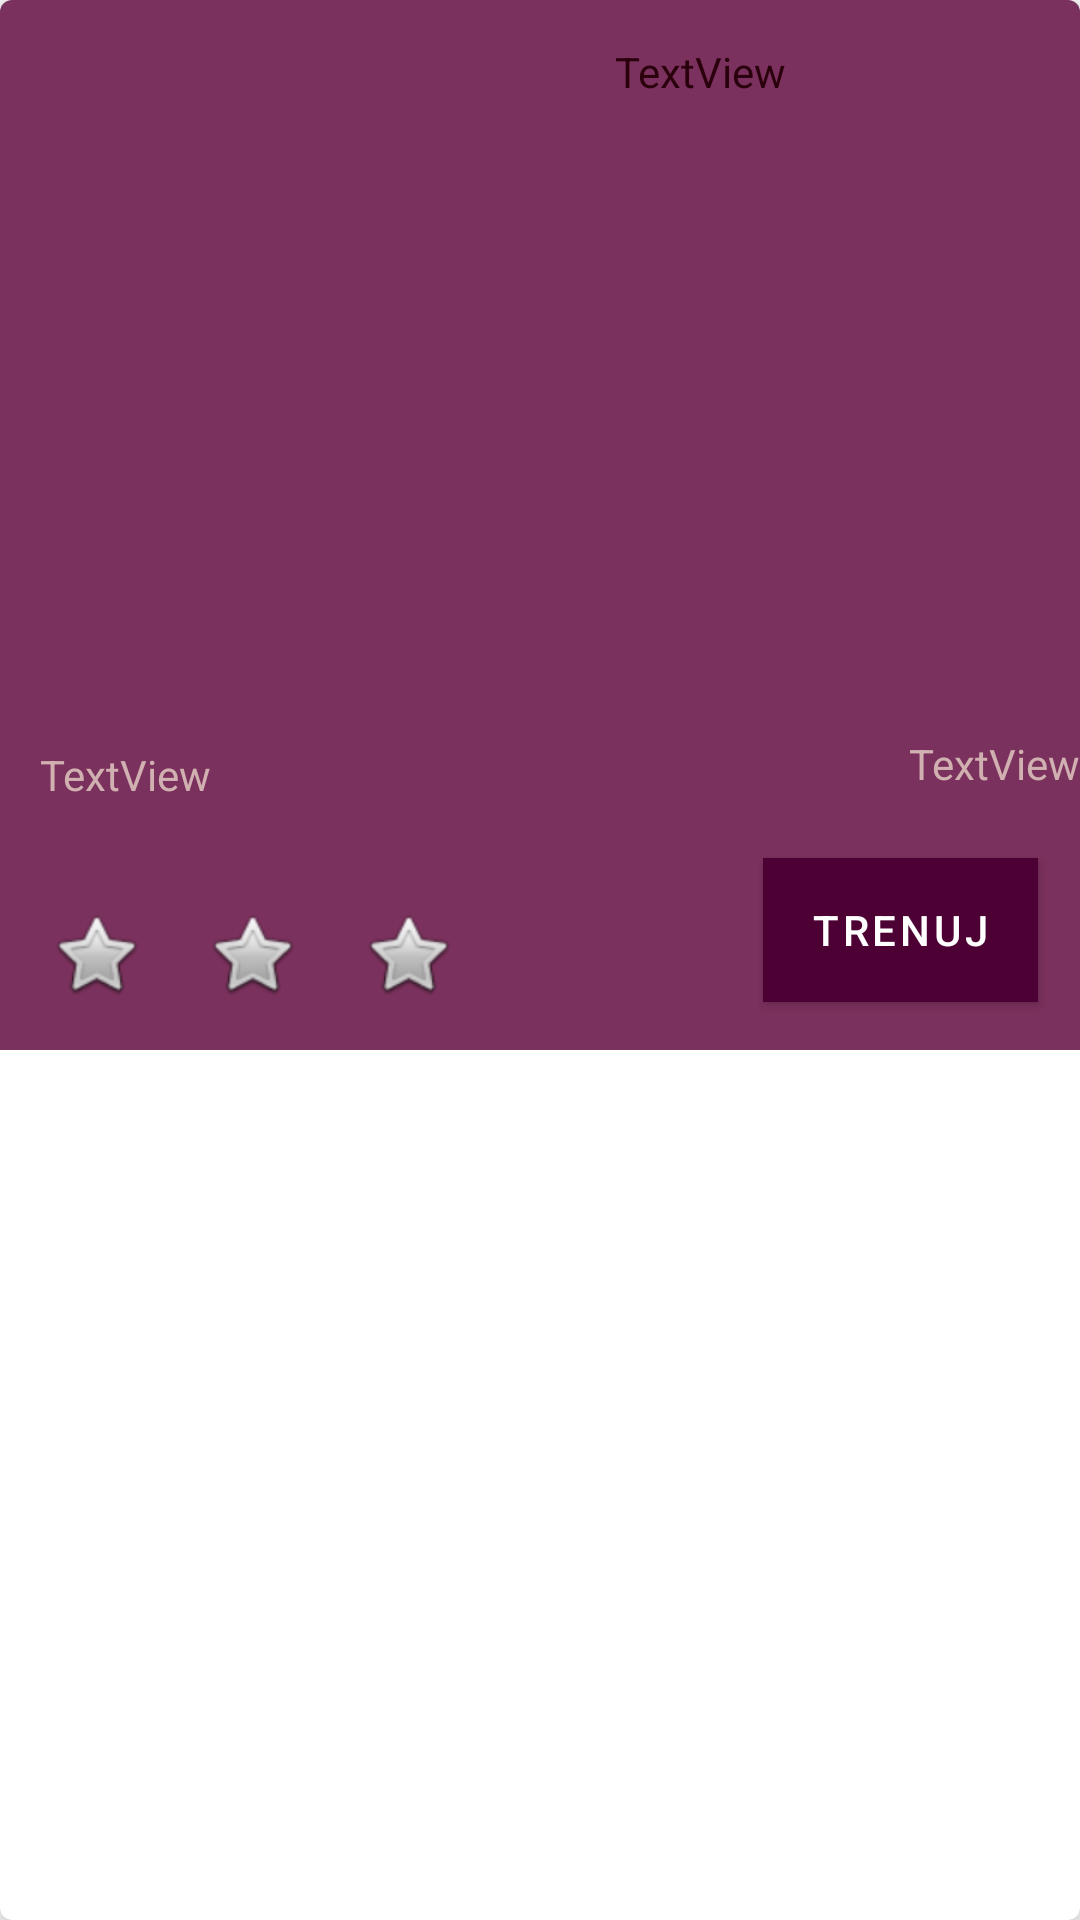

Screen size 1080*1920. Icon name, then its box in pixels as (x1, y1, x2, y2):
star off: (58, 917, 136, 993), (214, 917, 292, 993), (370, 917, 448, 993)
